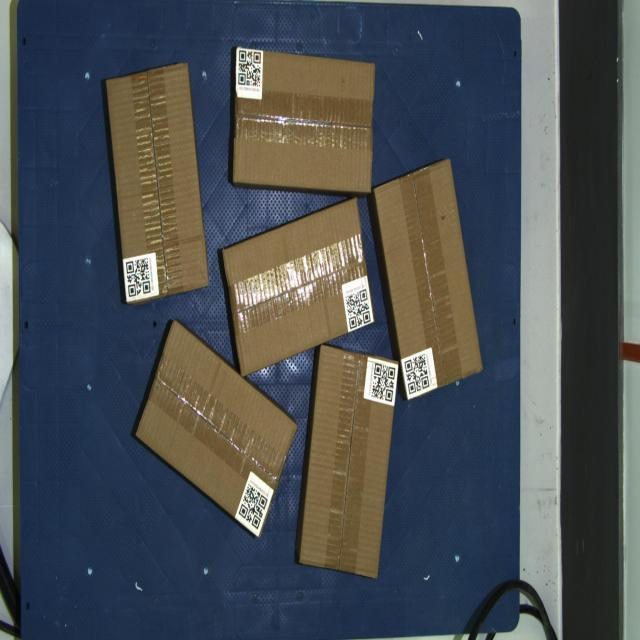box: (136, 320, 298, 538), (222, 197, 375, 377), (374, 159, 482, 401), (106, 62, 209, 304), (300, 346, 400, 578), (232, 47, 376, 192)
